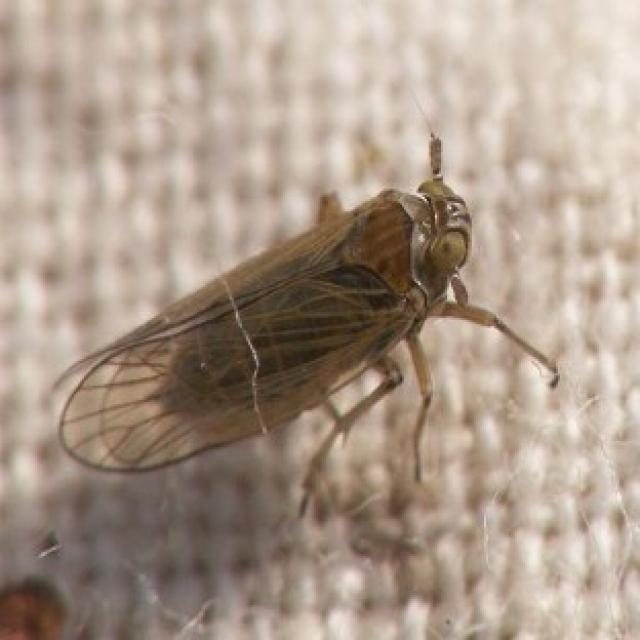brown plant hopper: (55, 135, 554, 509)
